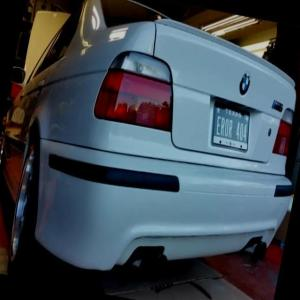Plate: (211, 102, 250, 151)
